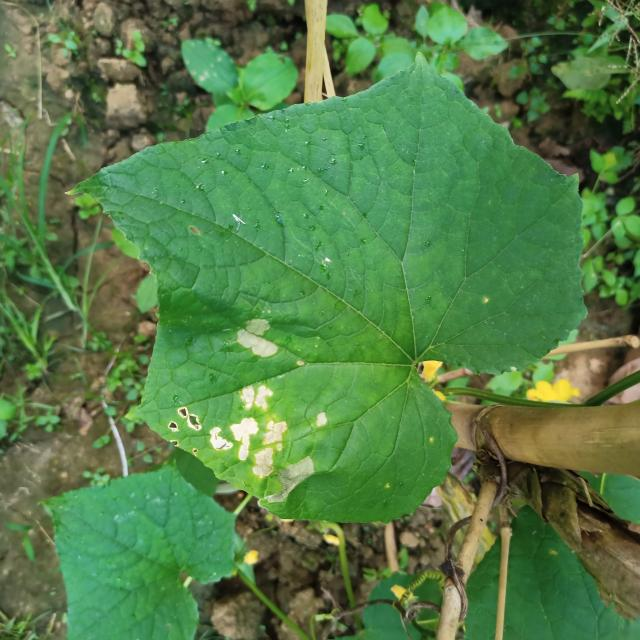disease_cucumber: (168, 378, 330, 506), (234, 316, 280, 363)
